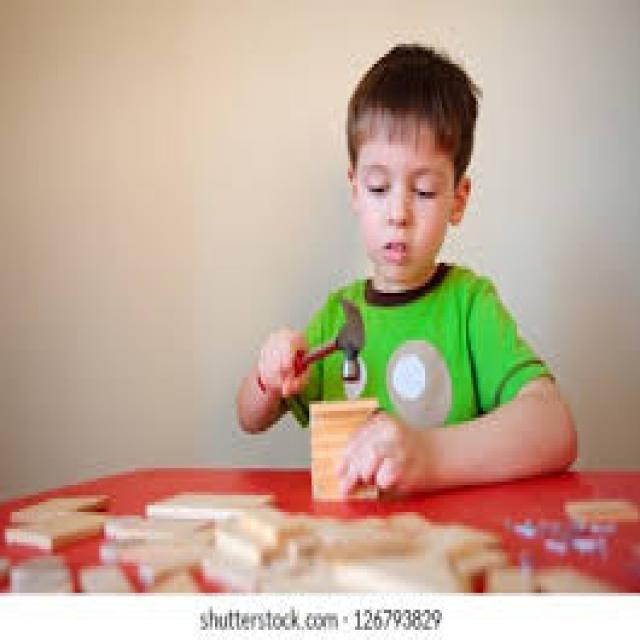hammer: (250, 283, 368, 408)
